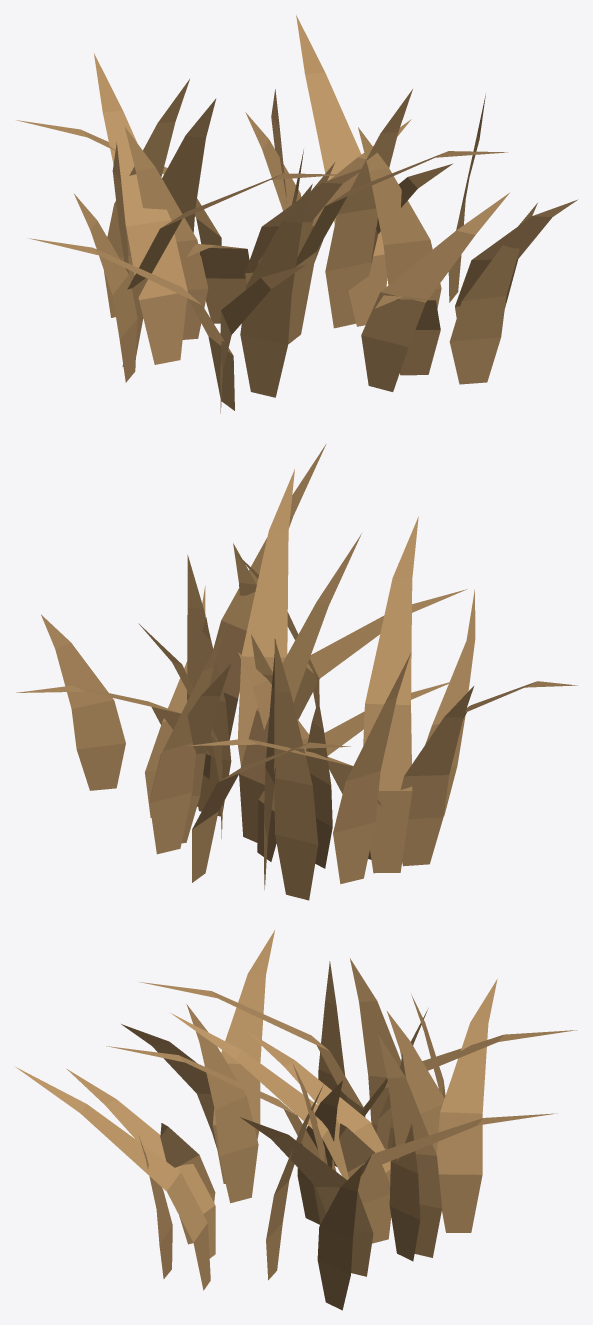
Rendered from SM_Grass_01.fbx.
The picture shows the model from 3 angles, top to bottom: view 1: azimuth 30°, elevation 25°; view 2: azimuth 150°, elevation 25°; view 3: azimuth 270°, elevation 25°; orthographic projection. The views are drawn at different scales.
Visible parts, largest first — view 1: SM_Grass_01; view 2: SM_Grass_01; view 3: SM_Grass_01.
Part boxes in pixels (box(x1,y1,x2,y2)): SM_Grass_01: box(16, 15, 577, 413); SM_Grass_01: box(16, 444, 577, 900); SM_Grass_01: box(14, 930, 577, 1310).
Bounding box in the file's own units: 268 × 129 × 288.
